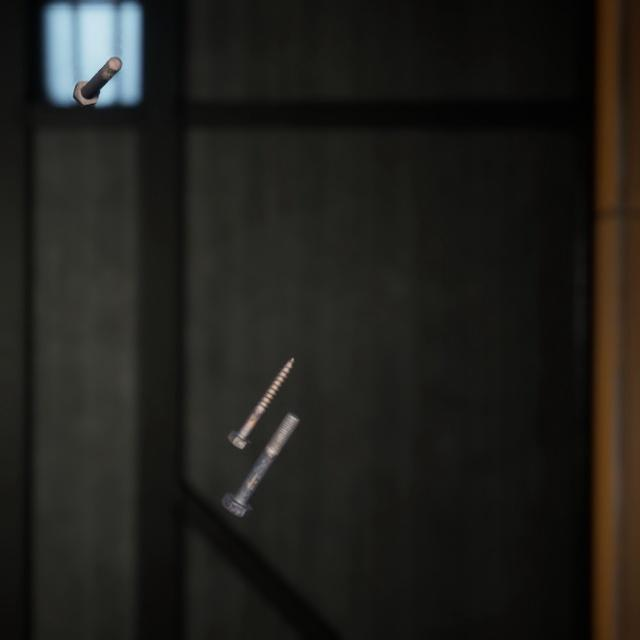bolt: (216, 386, 304, 501), (222, 332, 299, 434), (68, 41, 126, 101)
